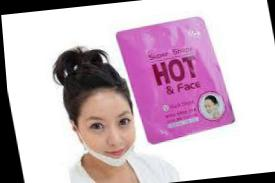WRONG: (75, 107, 139, 169)
